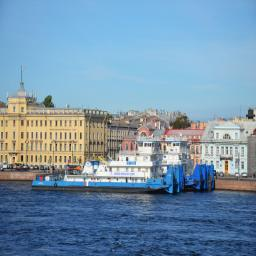tugboat: (31, 132, 187, 200)
